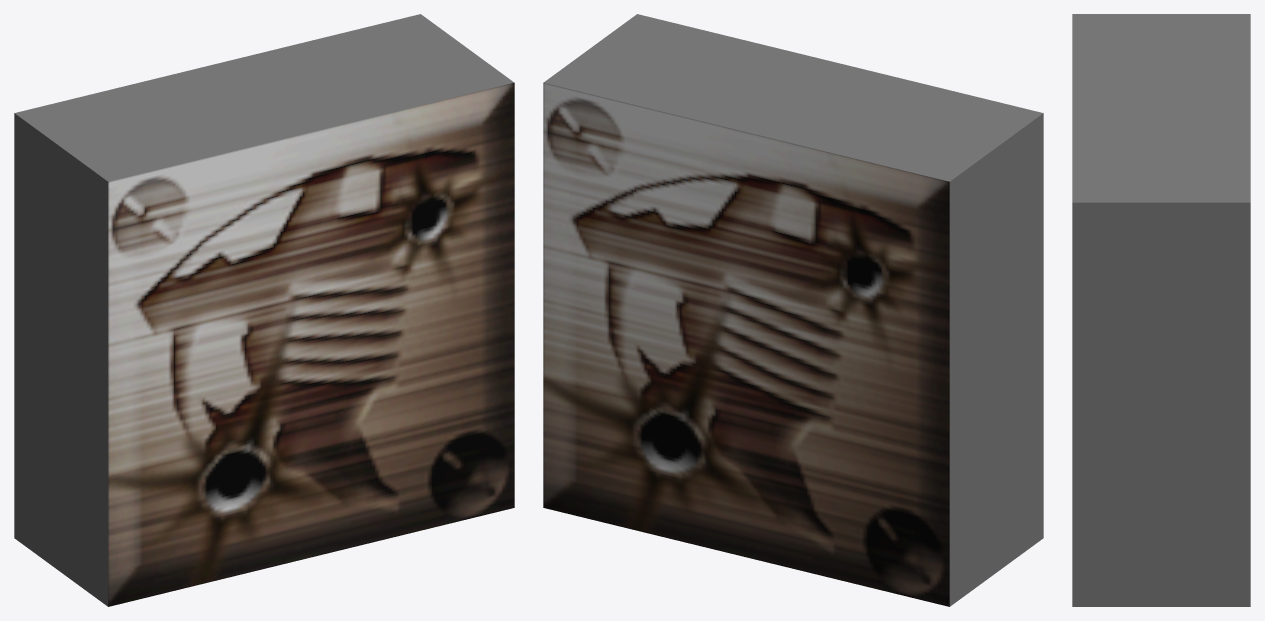
Rendered from zi_tac1.ico.obj.
The picture shows the model from 3 angles, left to right: view 1: azimuth 30°, elevation 25°; view 2: azimuth 150°, elevation 25°; view 3: azimuth 270°, elevation 25°; orthographic projection. The views are drawn at different scales.
Size of the model in its own units: 3.75 by 3.75 by 1.5.
1 material, 1 textured.
